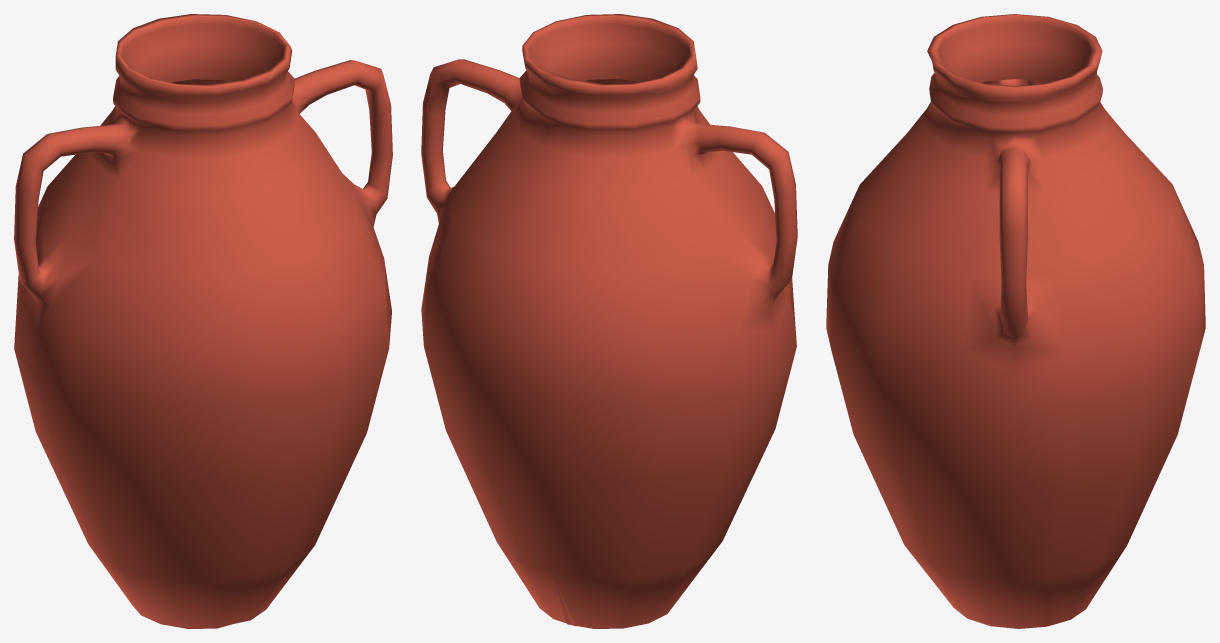
Rendered from anfora.fbx.
3 views of the same model, side by side, from view 1: azimuth 30°, elevation 25°; view 2: azimuth 150°, elevation 25°; view 3: azimuth 270°, elevation 25° (orthographic).
Parts seen in each view (by area): view 1: Cylinder; view 2: Cylinder; view 3: Cylinder.
Part boxes in pixels (x1=…): Cylinder: x1=14, y1=14, x2=392, y2=628; Cylinder: x1=421, y1=14, x2=797, y2=628; Cylinder: x1=826, y1=14, x2=1205, y2=628.
Bounding box in the file's own units: 218 × 311 × 192.
